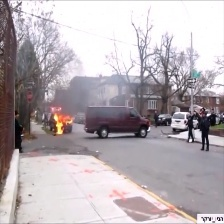fire: (50, 108, 75, 135)
